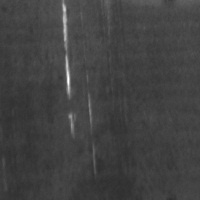scratches: (60, 1, 79, 135)
